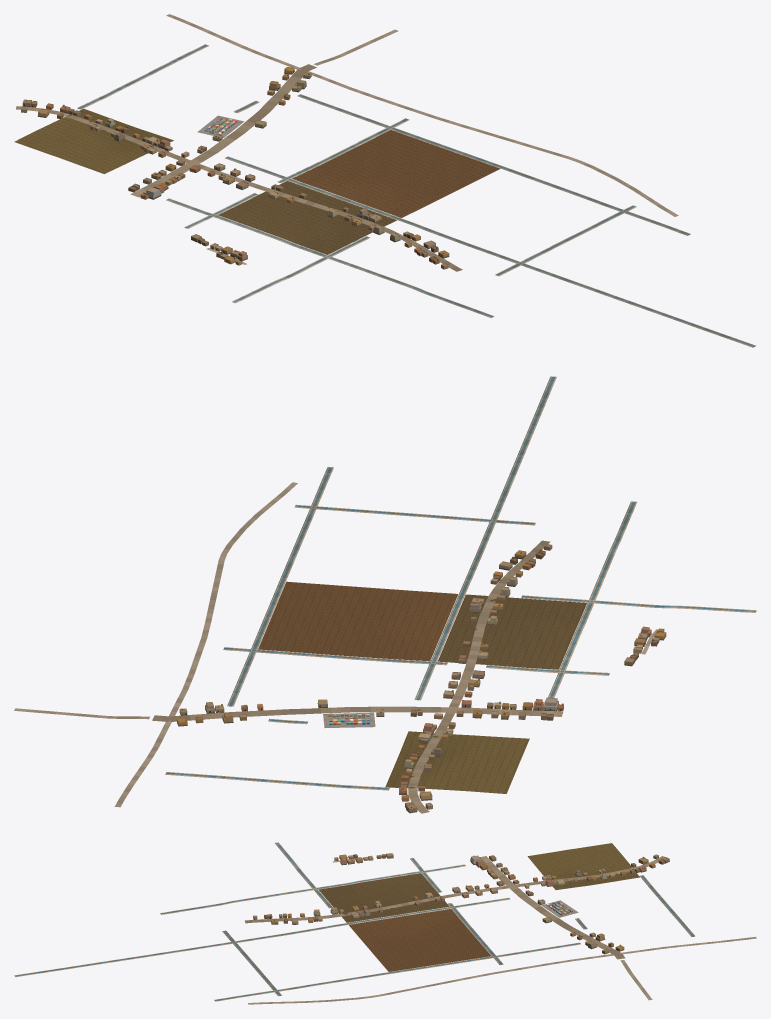
Rendered from uruk_quarter_16.glb.
The picture shows the model from 3 angles, top to bottom: view 1: azimuth 30°, elevation 25°; view 2: azimuth 150°, elevation 25°; view 3: azimuth 270°, elevation 25°; orthographic projection. The views are drawn at different scales.
Parts seen in each view (by area): view 1: uruk_quarter_16; view 2: uruk_quarter_16; view 3: uruk_quarter_16.
Boxes of the visible parts, left/top/right/bottom form: uruk_quarter_16: left=14, top=14, right=756, bottom=347; uruk_quarter_16: left=14, top=376, right=756, bottom=813; uruk_quarter_16: left=14, top=842, right=756, bottom=1004.
Size of the model in its own units: 593 by 15.66 by 1168.
22 materials, 6 textured.
